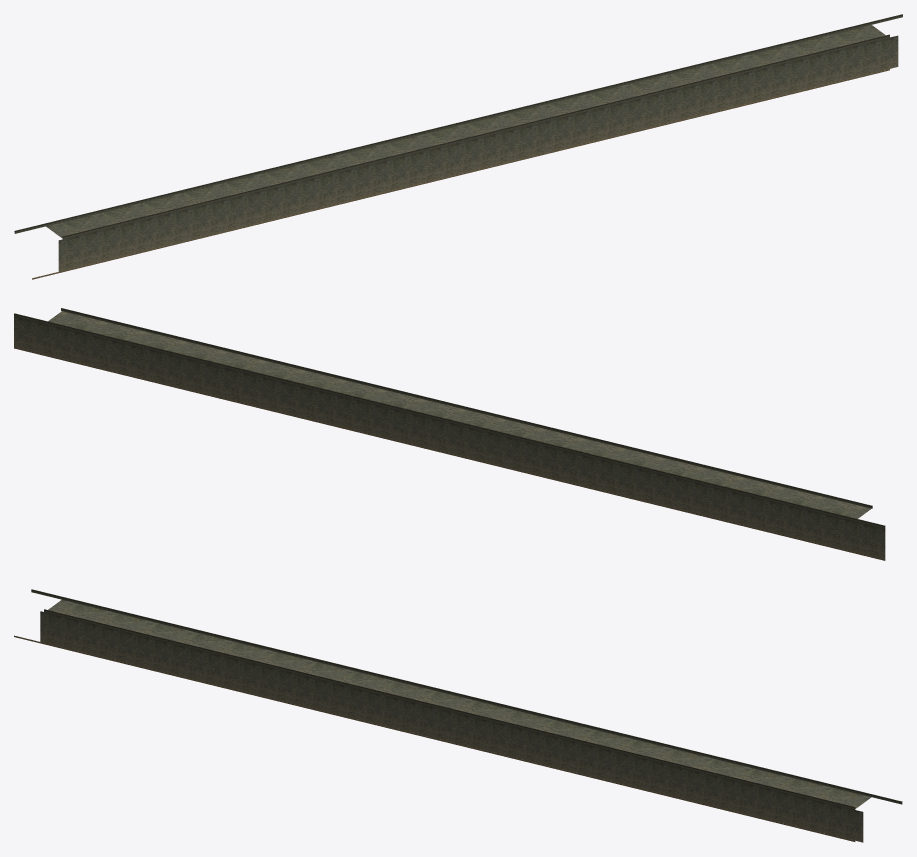
Rendered from cj_n_cut.glb.
The picture shows the model from 3 angles, top to bottom: view 1: azimuth 30°, elevation 25°; view 2: azimuth 150°, elevation 25°; view 3: azimuth 330°, elevation 25°; orthographic projection.
Visible parts, largest first — view 1: N-end1|CJ_n_wall01, N6a|CJ_n_wall01, N6c|CJ_n_wall01, N6b|CJ_n_wall01, N1b|CJ_n_wall01, N10a|CJ_n_wall01, N1a|CJ_n_wall01, N1c|CJ_n_wall01, N10b|CJ_n_wall01, N10c|CJ_n_wall01, N9b|CJ_n_wall01, N3a|CJ_n_wall01 (+20 smaller); view 2: N-end1|CJ_n_wall01, N-end0|CJ_n_wall01, N6a|CJ_n_wall01, N6c|CJ_n_wall01, N6b|CJ_n_wall01, N1a|CJ_n_wall01, N1c|CJ_n_wall01, N1b|CJ_n_wall01, N10c|CJ_n_wall01, N10b|CJ_n_wall01, N10a|CJ_n_wall01, N2c|CJ_n_wall01 (+20 smaller); view 3: N-end1|CJ_n_wall01, N6a|CJ_n_wall01, N6b|CJ_n_wall01, N6c|CJ_n_wall01, N1a|CJ_n_wall01, N1c|CJ_n_wall01, N10c|CJ_n_wall01, N1b|CJ_n_wall01, N10b|CJ_n_wall01, N10a|CJ_n_wall01, N2c|CJ_n_wall01, N3c|CJ_n_wall01 (+20 smaller).
Part boxes in pixels (x1=…): N-end1|CJ_n_wall01: x1=849, y1=25, x2=898, y2=74; N6a|CJ_n_wall01: x1=453, y1=120, x2=499, y2=170; N6c|CJ_n_wall01: x1=511, y1=106, x2=556, y2=156; N6b|CJ_n_wall01: x1=482, y1=113, x2=527, y2=163; N1b|CJ_n_wall01: x1=93, y1=208, x2=137, y2=258; N10a|CJ_n_wall01: x1=769, y1=43, x2=813, y2=93; N1a|CJ_n_wall01: x1=66, y1=215, x2=110, y2=265; N1c|CJ_n_wall01: x1=120, y1=202, x2=163, y2=252; N10b|CJ_n_wall01: x1=796, y1=37, x2=839, y2=87; N10c|CJ_n_wall01: x1=823, y1=30, x2=866, y2=80; N9b|CJ_n_wall01: x1=718, y1=56, x2=761, y2=106; N3a|CJ_n_wall01: x1=223, y1=177, x2=266, y2=227; N-end1|CJ_n_wall01: x1=14, y1=311, x2=83, y2=359; N-end0|CJ_n_wall01: x1=834, y1=504, x2=885, y2=559; N6a|CJ_n_wall01: x1=427, y1=404, x2=471, y2=454; N6c|CJ_n_wall01: x1=370, y1=390, x2=415, y2=440; N6b|CJ_n_wall01: x1=399, y1=397, x2=443, y2=447; N1a|CJ_n_wall01: x1=808, y1=497, x2=851, y2=546; N1c|CJ_n_wall01: x1=756, y1=484, x2=798, y2=534; N1b|CJ_n_wall01: x1=782, y1=491, x2=825, y2=540; N10c|CJ_n_wall01: x1=67, y1=316, x2=109, y2=366; N10b|CJ_n_wall01: x1=93, y1=323, x2=135, y2=372; N10a|CJ_n_wall01: x1=119, y1=329, x2=161, y2=378; N2c|CJ_n_wall01: x1=680, y1=466, x2=722, y2=515; N-end1|CJ_n_wall01: x1=832, y1=792, x2=871, y2=842; N6a|CJ_n_wall01: x1=444, y1=697, x2=488, y2=746; N6b|CJ_n_wall01: x1=472, y1=704, x2=517, y2=753; N6c|CJ_n_wall01: x1=500, y1=711, x2=545, y2=760; N1a|CJ_n_wall01: x1=64, y1=604, x2=107, y2=653; N1c|CJ_n_wall01: x1=117, y1=617, x2=159, y2=666; N10c|CJ_n_wall01: x1=806, y1=785, x2=849, y2=834; N1b|CJ_n_wall01: x1=90, y1=611, x2=133, y2=660; N10b|CJ_n_wall01: x1=780, y1=779, x2=822, y2=828; N10a|CJ_n_wall01: x1=754, y1=773, x2=796, y2=822; N2c|CJ_n_wall01: x1=193, y1=636, x2=235, y2=685; N3c|CJ_n_wall01: x1=268, y1=654, x2=310, y2=703.
Bounding box in the file's own units: 556 × 21.2 × 19.66.
Materials: 2 (2 with a texture image).
